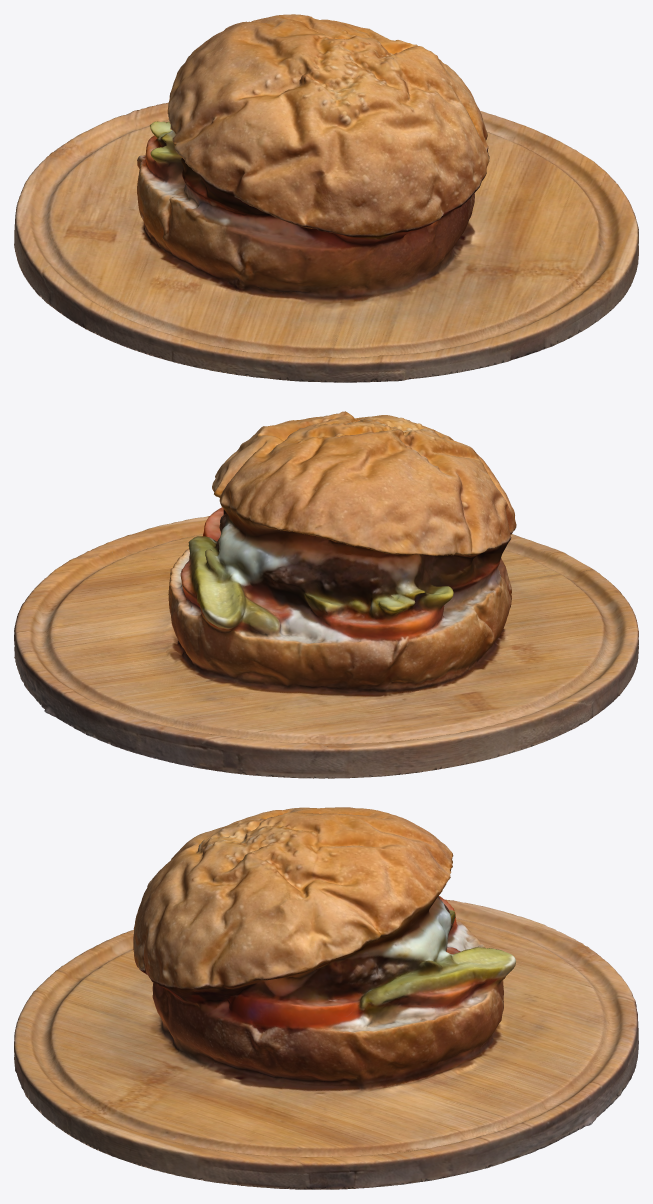
Rendered from Cheese.Burger (2).glb.
The picture shows the model from 3 angles, top to bottom: view 1: azimuth 30°, elevation 25°; view 2: azimuth 150°, elevation 25°; view 3: azimuth 270°, elevation 25°; orthographic projection.
Visible parts, largest first — view 1: 3DModel; view 2: 3DModel; view 3: 3DModel.
Part boxes in pixels (box(x1,y1,x2,y2)): 3DModel: box(14, 14, 638, 382); 3DModel: box(14, 411, 638, 778); 3DModel: box(14, 807, 638, 1189).
Bounding box in the file's own units: 0.3624 × 0.1455 × 0.3615.
1 material, 1 textured.
